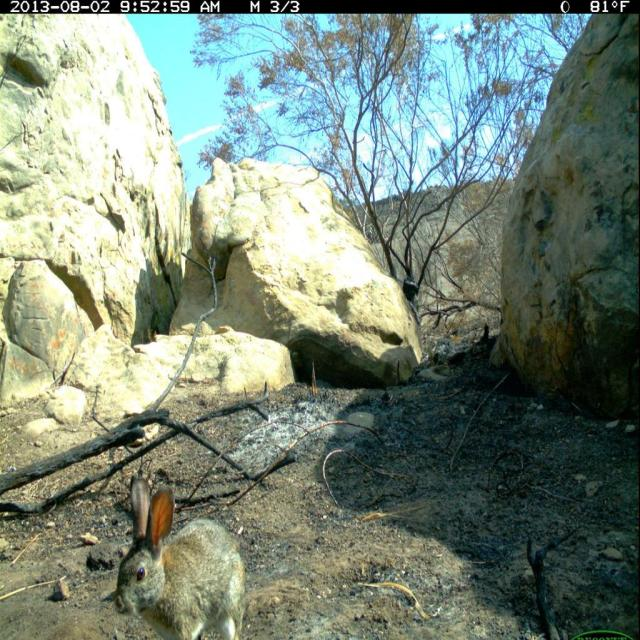rabbit: (111, 472, 253, 640)
